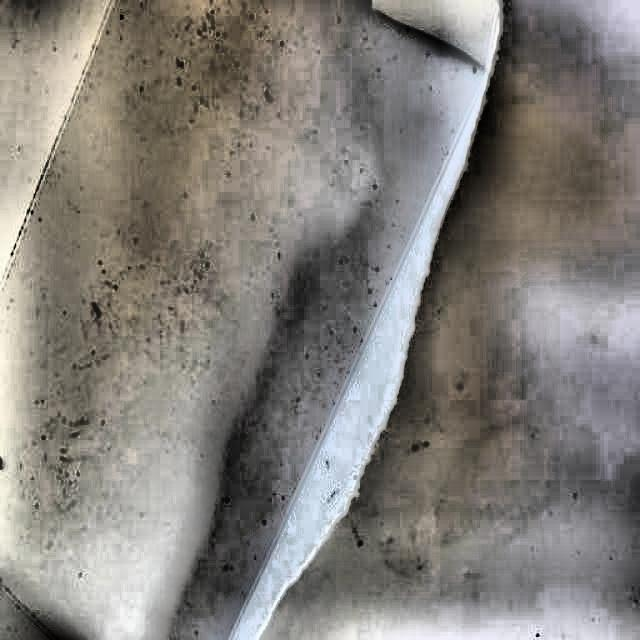Paper: (1, 0, 498, 638)
